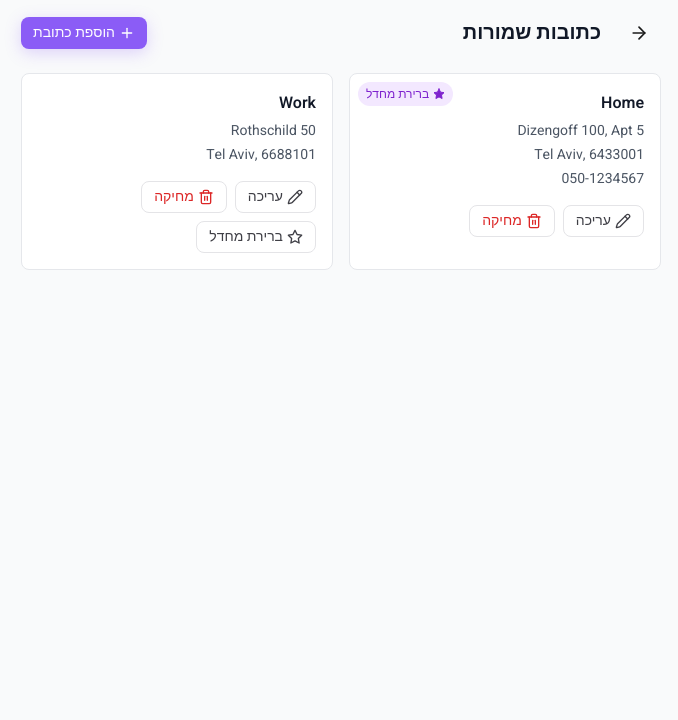
Scenario: Addresses Page › Edit Address › opens edit form with pre-filled data when edit clicked
The width and height of the screenshot is (678, 720).
Click the button "עריכה" below "050-1234567" at (603, 221), box [563,205,644,237]
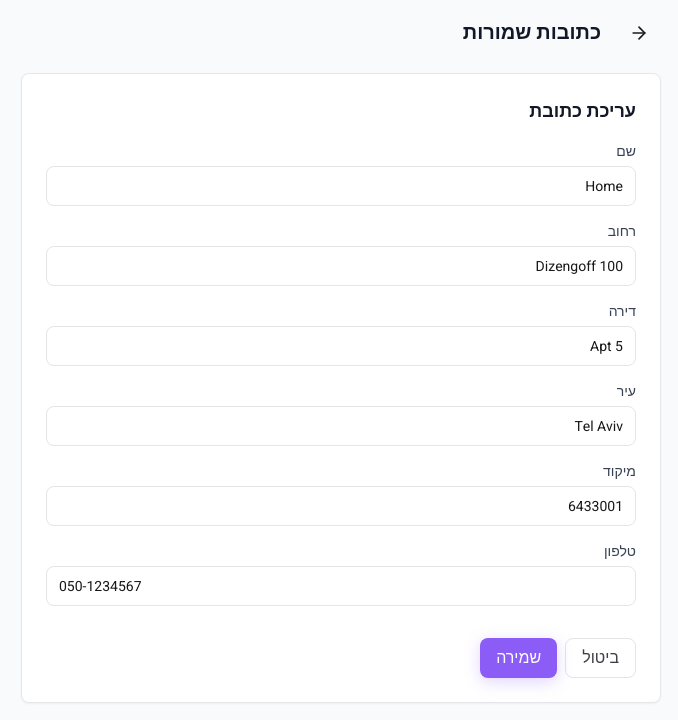
expect the form with test id "address-form" is shown: met
expect the heading "עריכת כתובת" is shown: met, box [529,98,636,125]
